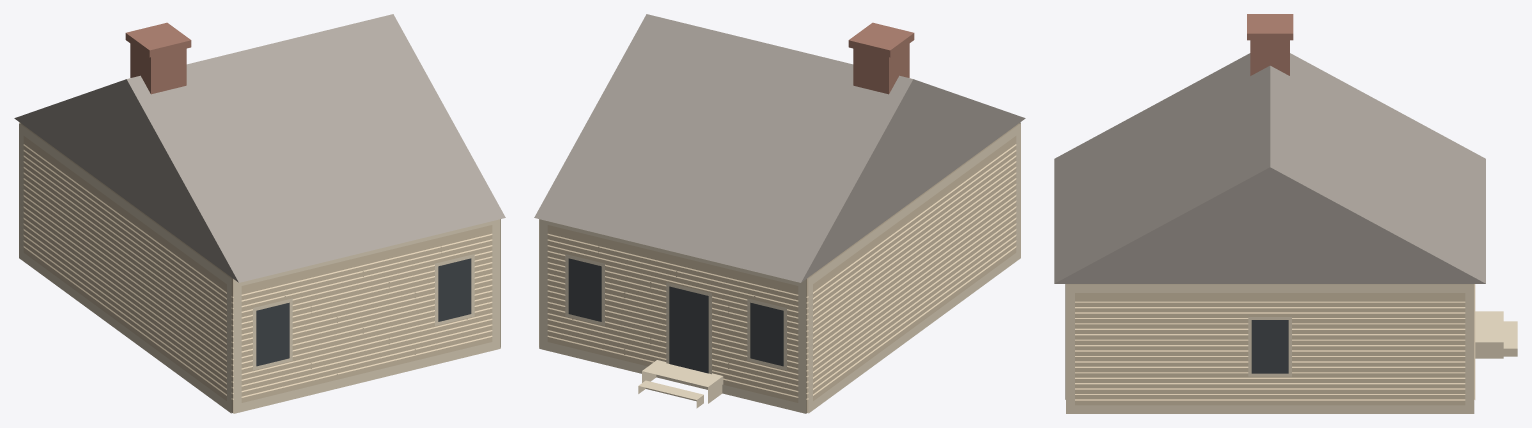
File: recon_1835_blk_south_water_wells_d4_03__inferred_1835.glb
The picture shows the model from 3 angles, left to right: view 1: azimuth 30°, elevation 25°; view 2: azimuth 150°, elevation 25°; view 3: azimuth 270°, elevation 25°; orthographic projection. The views are drawn at different scales.
Parts seen in each view (by area): view 1: recon_1835_blk_south_water_wells_d4_03__inferred_1835; view 2: recon_1835_blk_south_water_wells_d4_03__inferred_1835; view 3: recon_1835_blk_south_water_wells_d4_03__inferred_1835.
Part boxes in pixels (<box>): recon_1835_blk_south_water_wells_d4_03__inferred_1835: <box>14,14,505,413</box>; recon_1835_blk_south_water_wells_d4_03__inferred_1835: <box>534,14,1025,413</box>; recon_1835_blk_south_water_wells_d4_03__inferred_1835: <box>1054,14,1517,413</box>.
Size of the model in its own units: 6.34 by 6.53 by 9.82.
